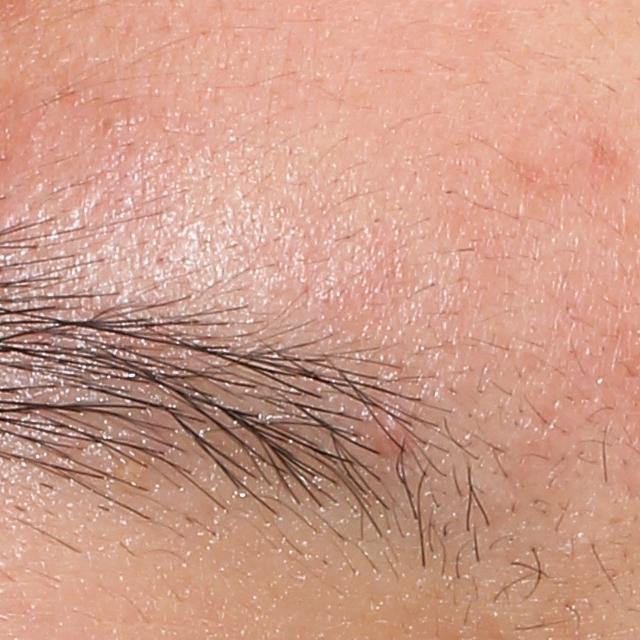papule: (369, 397, 418, 454)
